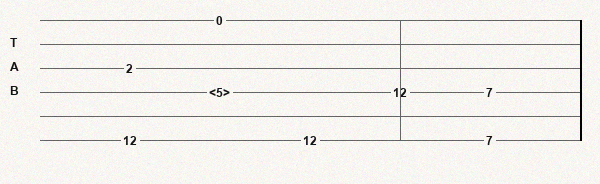0: (216, 14, 227, 27)
12: (123, 134, 141, 147), (303, 134, 321, 147), (393, 86, 411, 99)
2: (126, 62, 137, 75)
7: (486, 86, 497, 99), (486, 134, 497, 147)
harmonic: (209, 86, 234, 99)
